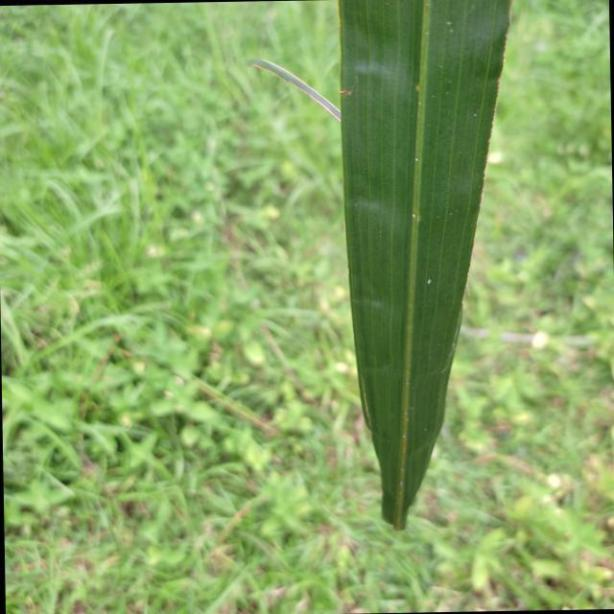Boron: (339, 3, 513, 534)
